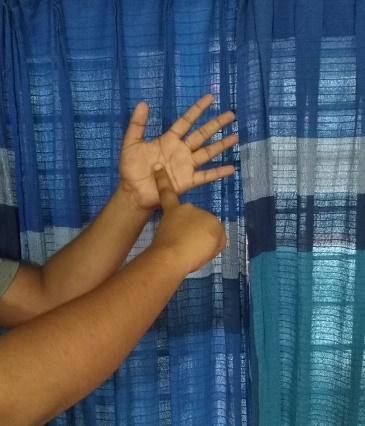oo: (121, 92, 236, 277)
